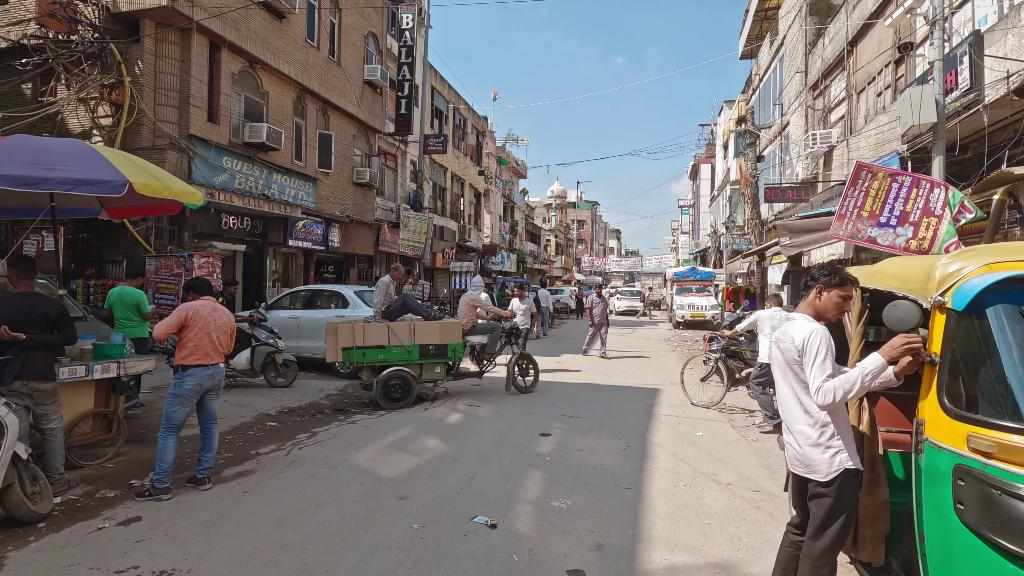garbage: (472, 515, 501, 526)
